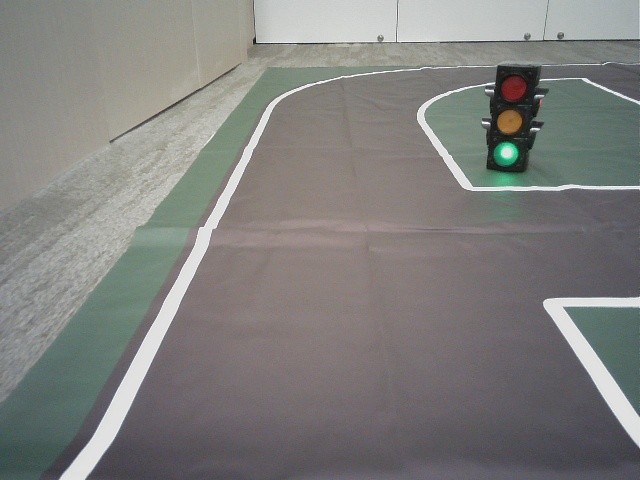green: (492, 69, 524, 165)
